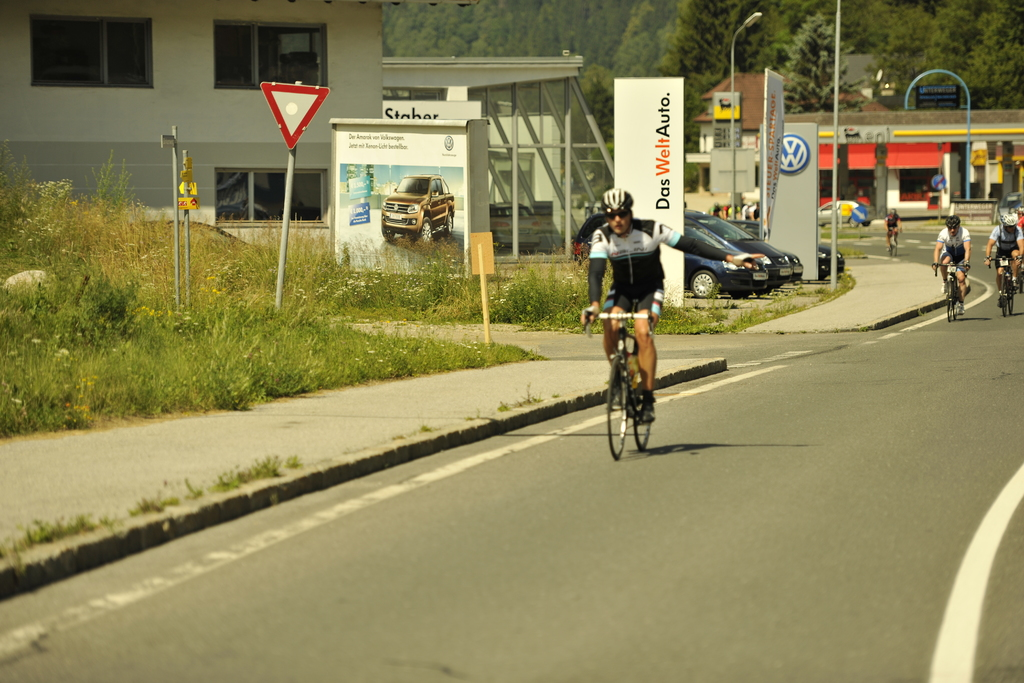Bike_toward: (576, 304, 664, 460), (932, 257, 975, 324), (986, 252, 1024, 314)
